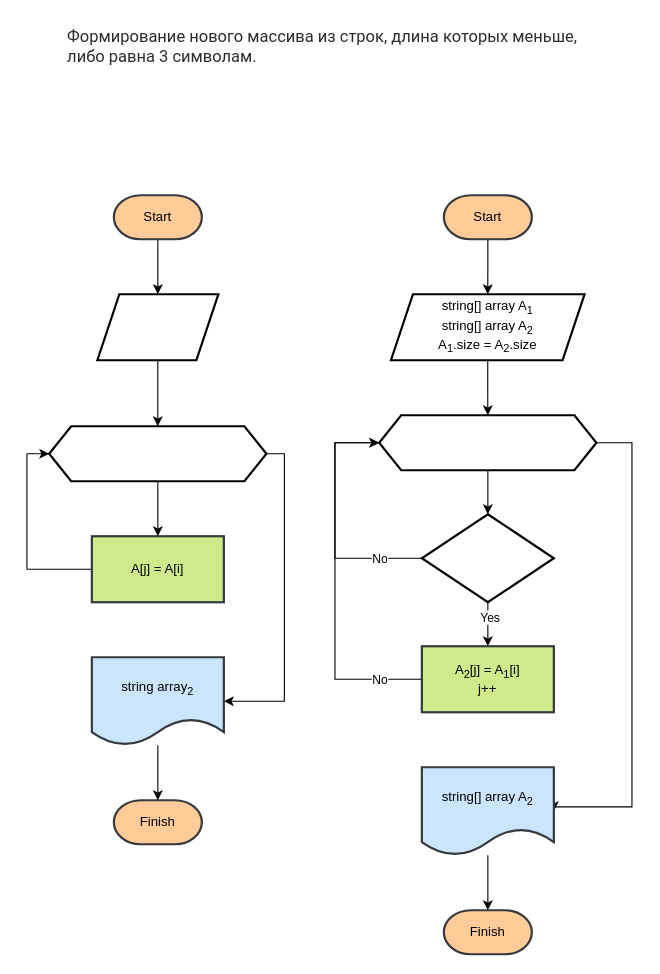
Image size: 660x974. Some labels were removed from this diagram. The shapes that lost their labels are listed below. From the top down, each one's box as (x1, y1, x2, y2) in pixels, then its label:
(96, 293, 219, 361): string array
(48, 425, 267, 482): i = 0; i < array.Length, i++ j = 0, j < array.Length, j++ A[i].Length <= 3
(378, 414, 597, 471): i = 0; i < A 1 .size, i++ j = 0
(420, 513, 554, 603): A 1 [i].Length <= 3
